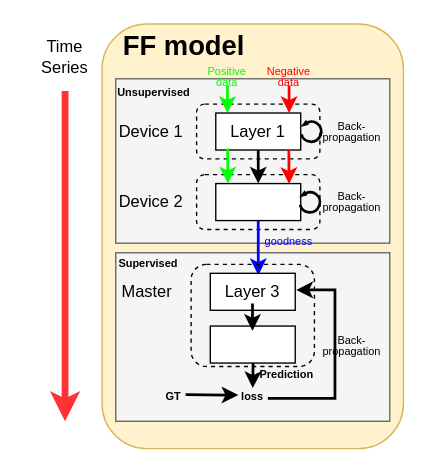
The diagram is 427 pixels wide and 473 high, and some of its shapes have lost their labels. Each missing label, with the centre of its shape:
"Layer 2" belongs at [257,201].
"Layer 4" belongs at [252,344].
